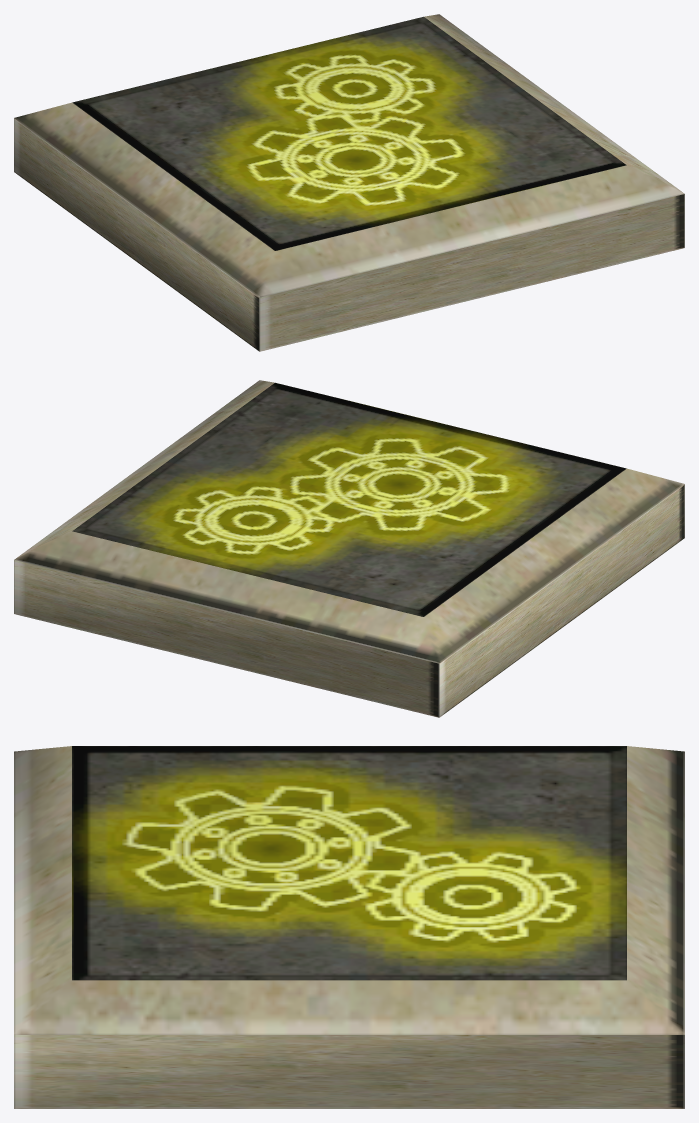
Rendered from FLOOR_RUIN_GEAR_FLOOR_RUIN_GEAR02.fbx.
3 renders of one model, top to bottom at view 1: azimuth 30°, elevation 25°; view 2: azimuth 150°, elevation 25°; view 3: azimuth 270°, elevation 25°, orthographic. The views are drawn at different scales.
Visible parts, largest first — view 1: FLOOR_RUIN_GEAR_FLOOR_RUIN_GEAR02; view 2: FLOOR_RUIN_GEAR_FLOOR_RUIN_GEAR02; view 3: FLOOR_RUIN_GEAR_FLOOR_RUIN_GEAR02.
Boxes of the visible parts, left/top/right/bottom form: FLOOR_RUIN_GEAR_FLOOR_RUIN_GEAR02: left=14, top=14, right=684, bottom=351; FLOOR_RUIN_GEAR_FLOOR_RUIN_GEAR02: left=14, top=380, right=684, bottom=717; FLOOR_RUIN_GEAR_FLOOR_RUIN_GEAR02: left=14, top=746, right=684, bottom=1108.
Size of the model in its own units: 15000 by 2565 by 15000.
2 materials, 2 textured.
